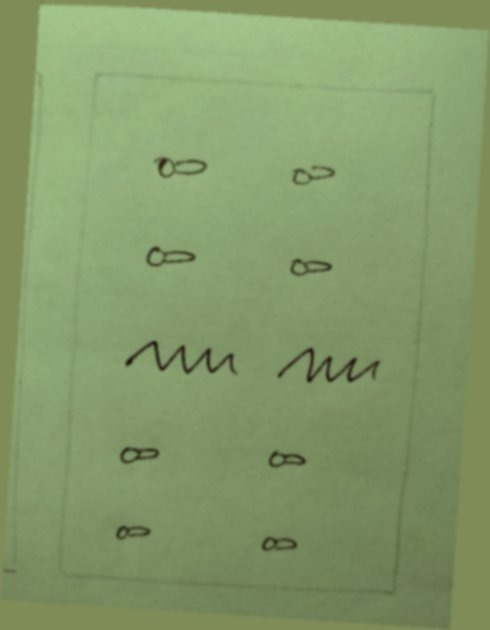switch: (139, 142, 227, 197), (271, 243, 348, 289), (281, 149, 344, 198), (108, 430, 170, 478), (139, 235, 205, 278), (246, 520, 309, 565), (256, 434, 316, 480), (100, 508, 162, 550)
text: (113, 329, 253, 395), (268, 336, 389, 398)
